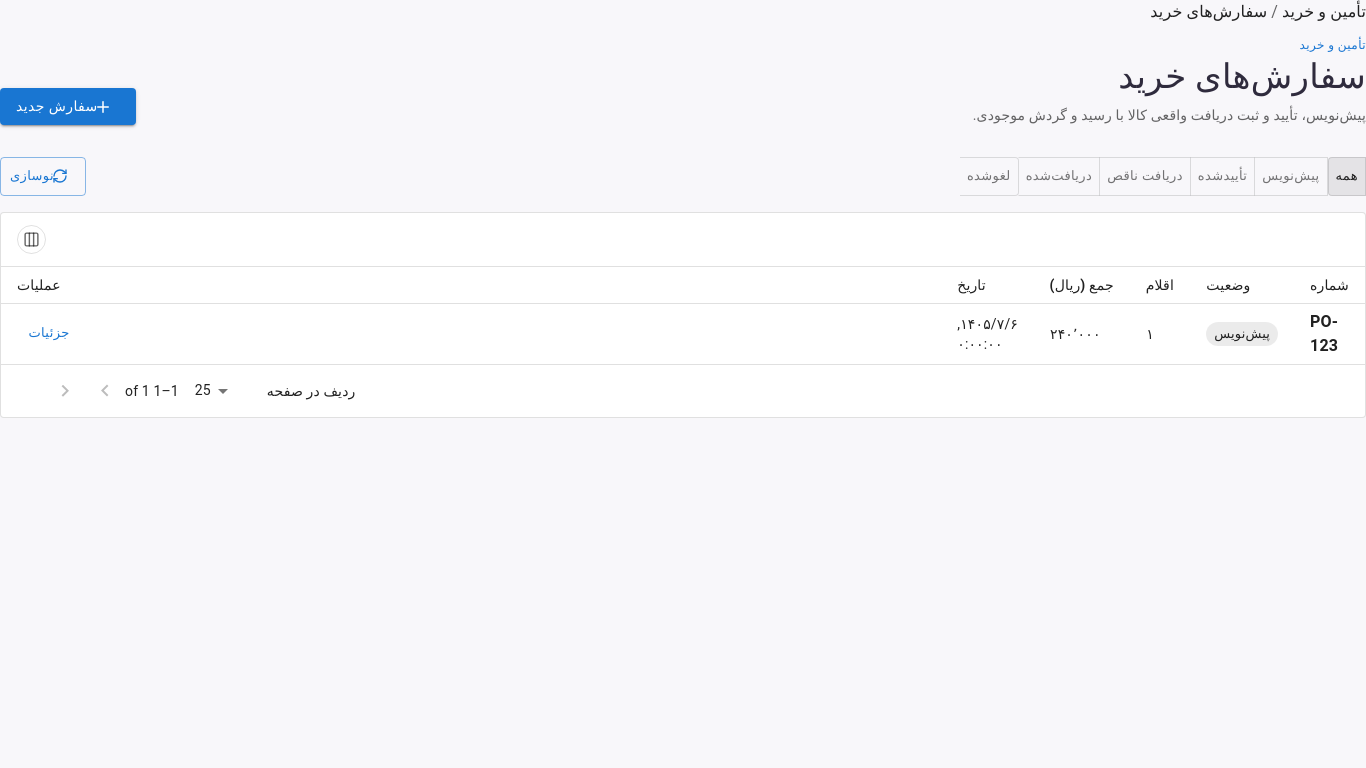
Test case: PurchaseOrdersView › filters draft orders at the server and offers a real create form
Check: the text "PO-123" is shown, box [1310,312,1338,355]
Click the button "پیش‌نویس".
click(1291, 176)  # box [1254,157,1328,196]
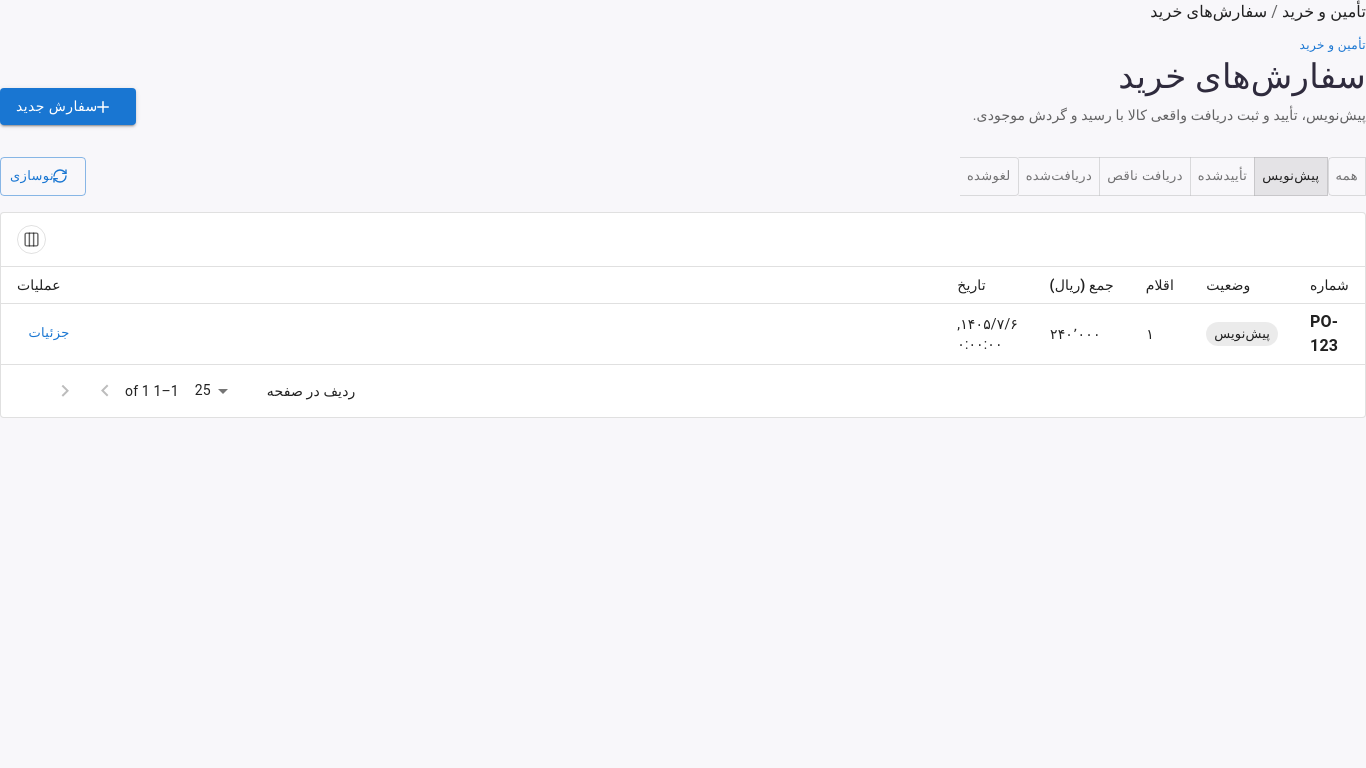
Click the button "سفارش جدید".
click(68, 107)  # box [0,88,136,125]
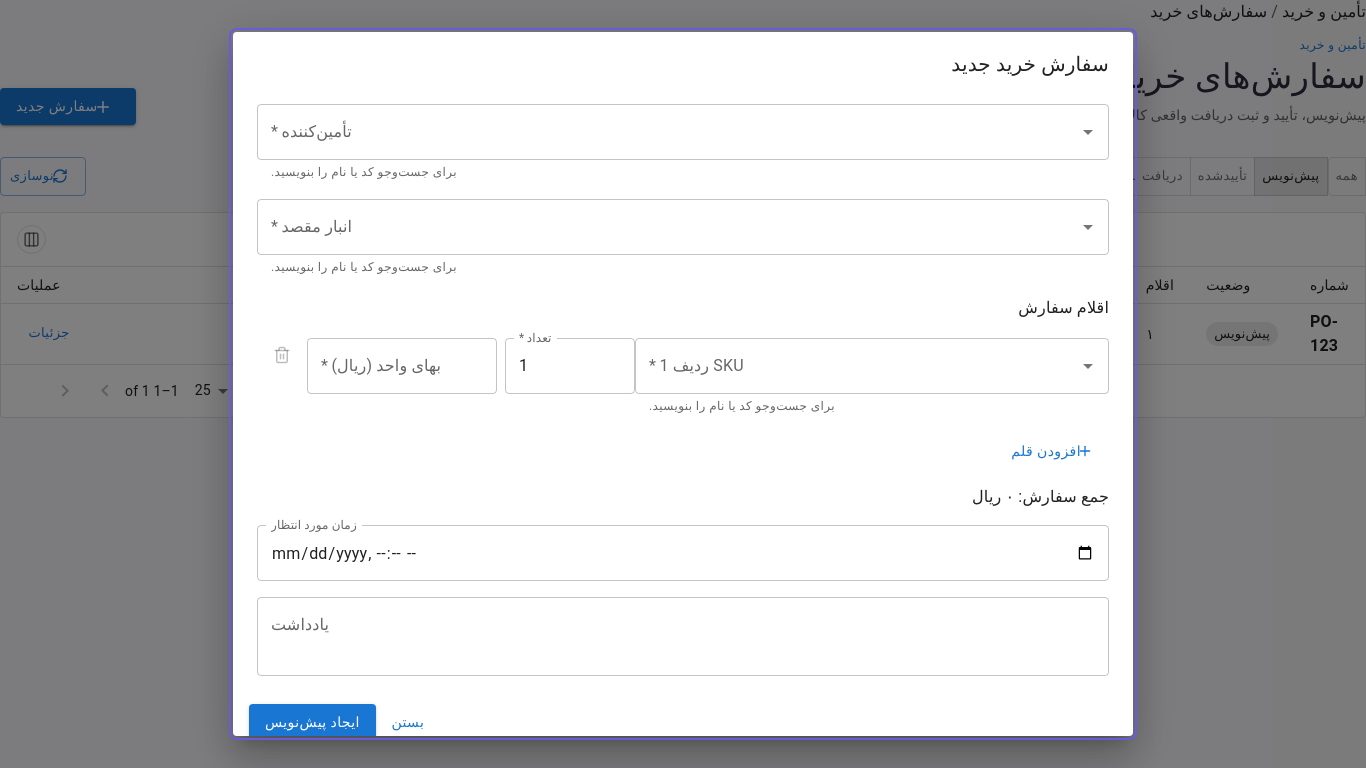
Check: the dialog "سفارش خرید جدید" is shown
Check: the dropdown labelled "تأمین‌کننده *" is shown, box [266,113,1070,151]
Check: the dropdown labelled "انبار مقصد *" is shown, box [266,208,1070,246]
